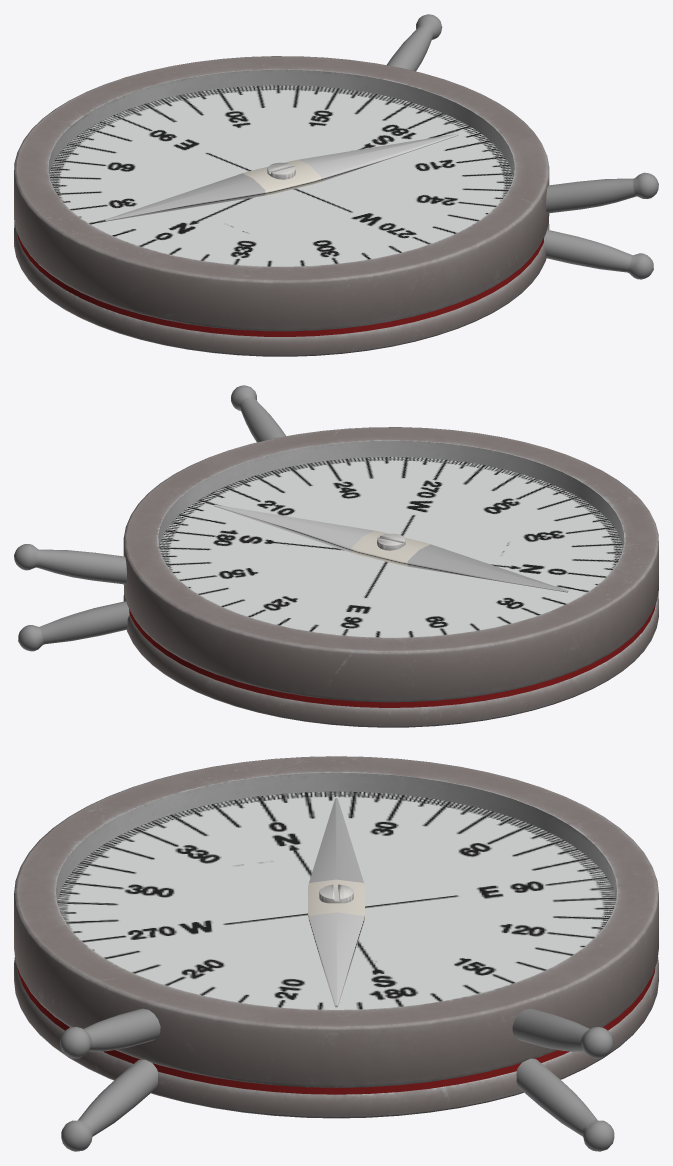
File: CompassSimpler.fbx
3 renders of one model, top to bottom at view 1: azimuth 30°, elevation 25°; view 2: azimuth 150°, elevation 25°; view 3: azimuth 270°, elevation 25°, orthographic. The views are drawn at different scales.
Visible parts, largest first — view 1: Circle.001, Cube.002, Stand Front, Stand Back; view 2: Circle.001, Cube.002, Stand Front, Stand Back; view 3: Circle.001, Stand Back, Cube.002, Stand Front, Circle.002.
Part boxes in pixels (left/top/right/bottom): Circle.001: left=14, top=56, right=549, bottom=356; Cube.002: left=104, top=133, right=458, bottom=221; Stand Front: left=386, top=14, right=658, bottom=213; Stand Back: left=543, top=229, right=653, bottom=279; Circle.001: left=123, top=427, right=658, bottom=727; Cube.002: left=214, top=504, right=568, bottom=592; Stand Front: left=14, top=385, right=285, bottom=584; Stand Back: left=18, top=601, right=129, bottom=651; Circle.001: left=14, top=756, right=658, bottom=1118; Stand Back: left=61, top=1058, right=614, bottom=1151; Cube.002: left=308, top=798, right=364, bottom=1007; Stand Front: left=60, top=1008, right=612, bottom=1058; Circle.002: left=319, top=884, right=353, bottom=903.
Bounding box in the file's own units: 35.28 × 6.99 × 32.79.
